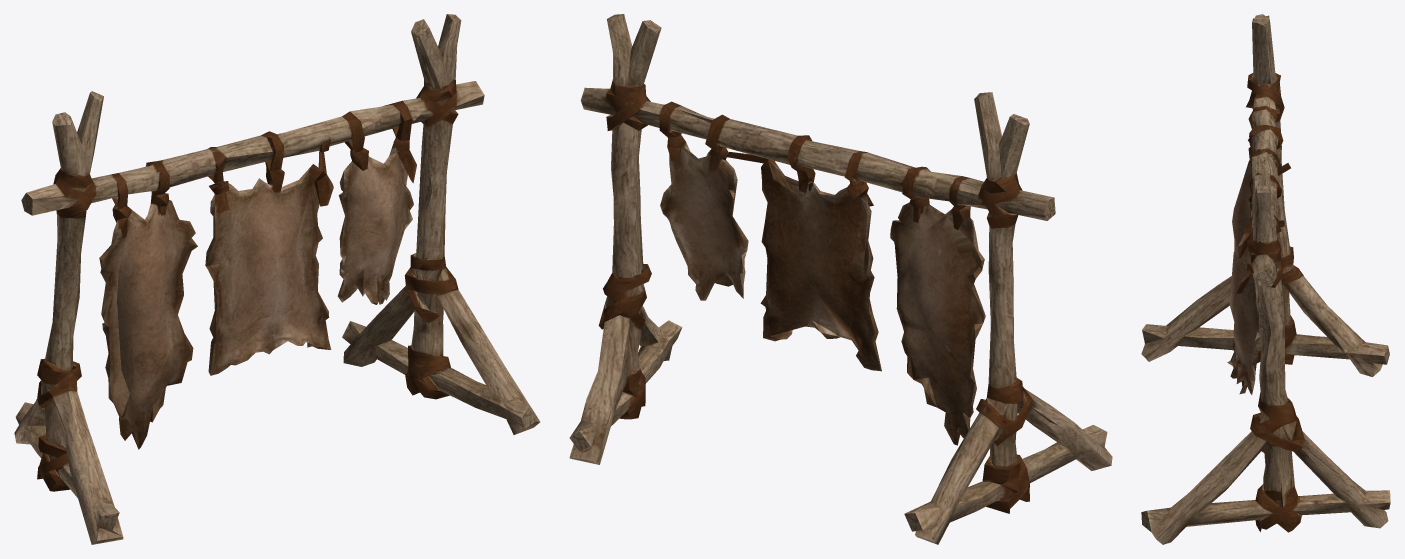
3 renders of one model, left to right at view 1: azimuth 30°, elevation 25°; view 2: azimuth 150°, elevation 25°; view 3: azimuth 270°, elevation 25°, orthographic. The views are drawn at different scales.
Visible parts, largest first — view 1: drying-rack.001; view 2: drying-rack.001; view 3: drying-rack.001.
Part boxes in pixels (<box>): drying-rack.001: <box>14,14,540,544</box>; drying-rack.001: <box>569,14,1112,544</box>; drying-rack.001: <box>1141,14,1390,544</box>.
Size of the model in its own units: 2.89 by 2.4 by 1.5.
1 material, 1 textured.
